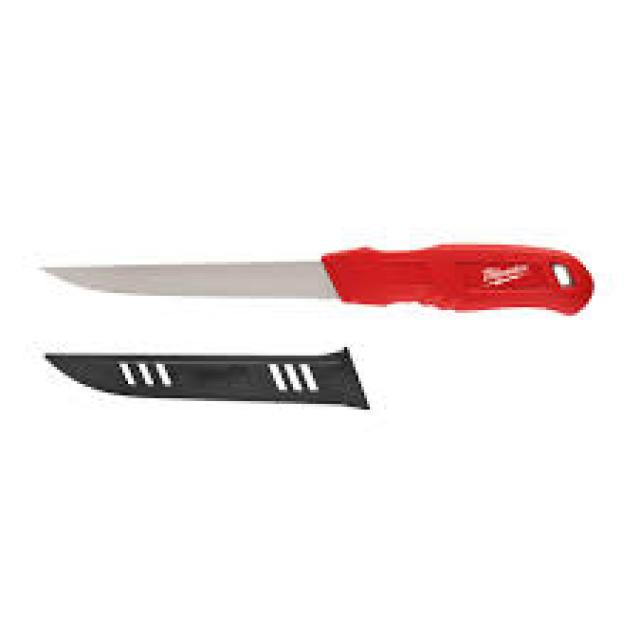knives: (34, 236, 597, 322), (37, 342, 373, 416)
